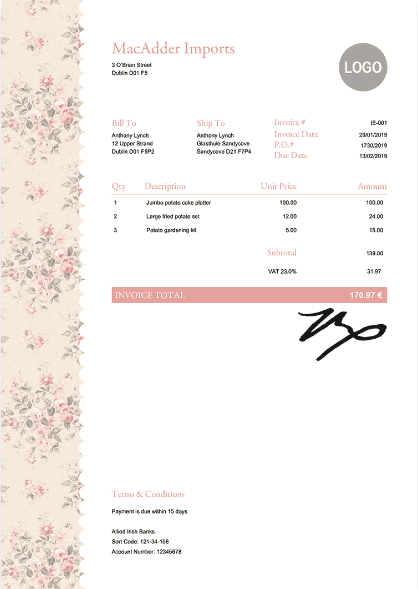Table: (94, 175, 398, 309)
